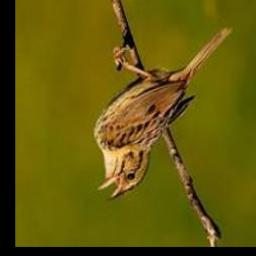Sparrow: (93, 26, 238, 203)
